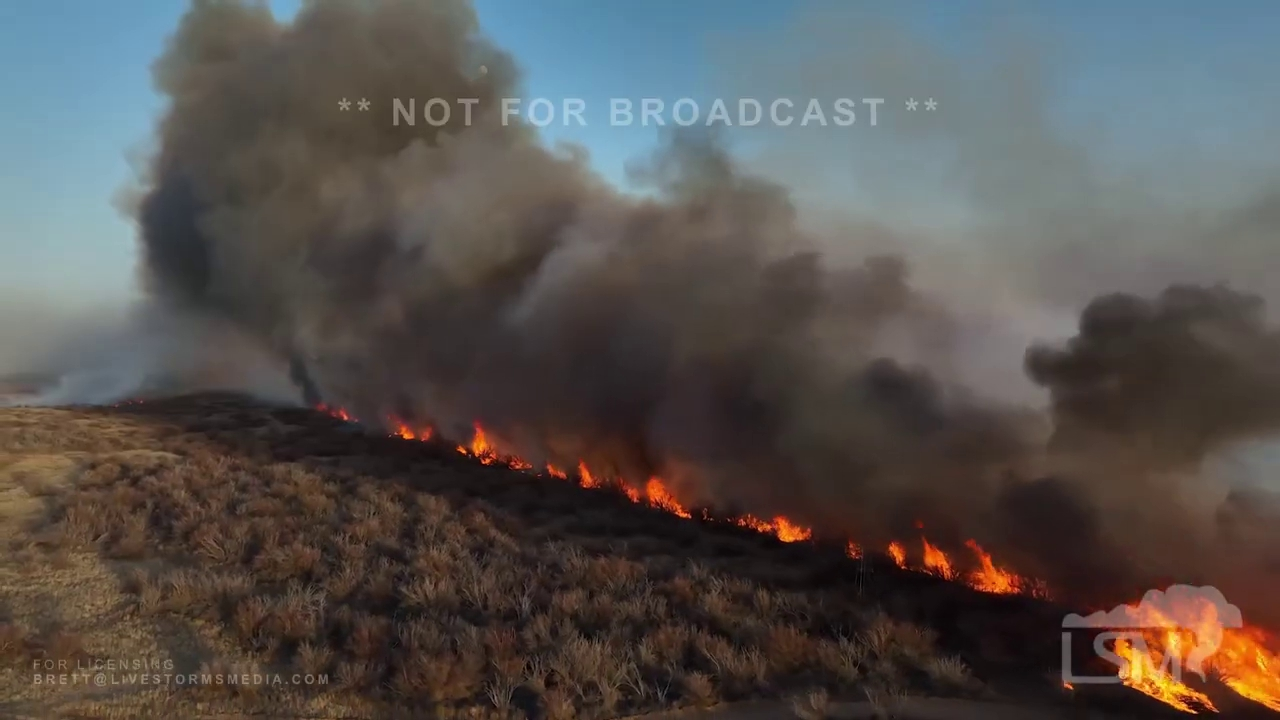forest_fire: (455, 423, 713, 520), (886, 536, 1048, 597), (1117, 628, 1211, 712), (1204, 627, 1279, 711), (728, 515, 812, 542), (387, 417, 433, 441), (318, 404, 354, 420), (845, 541, 863, 559)
